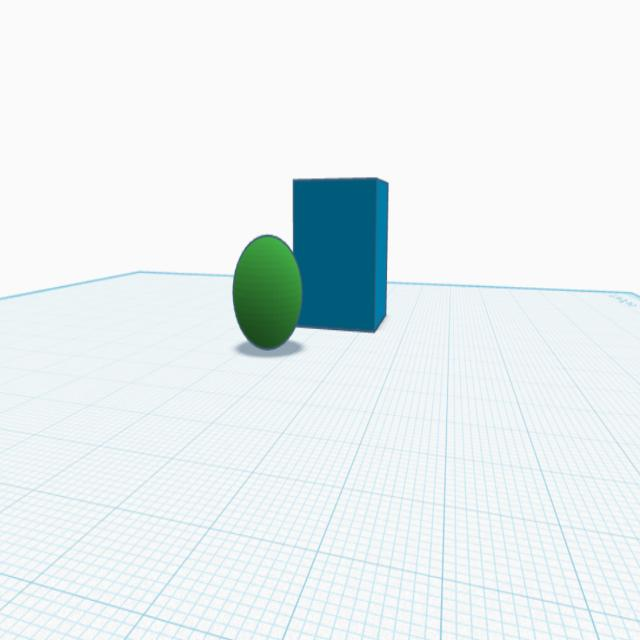cube: (290, 166, 392, 342)
sphere: (229, 230, 303, 354)
